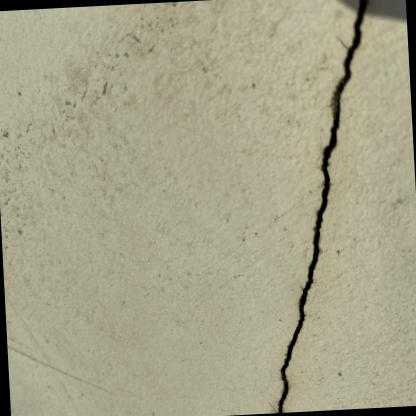crack: (277, 0, 369, 413)
